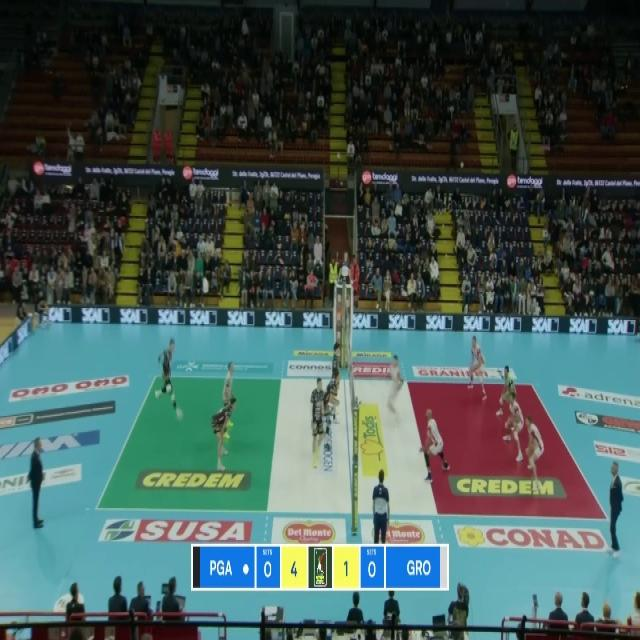volleyball court: (96, 378, 607, 518)
